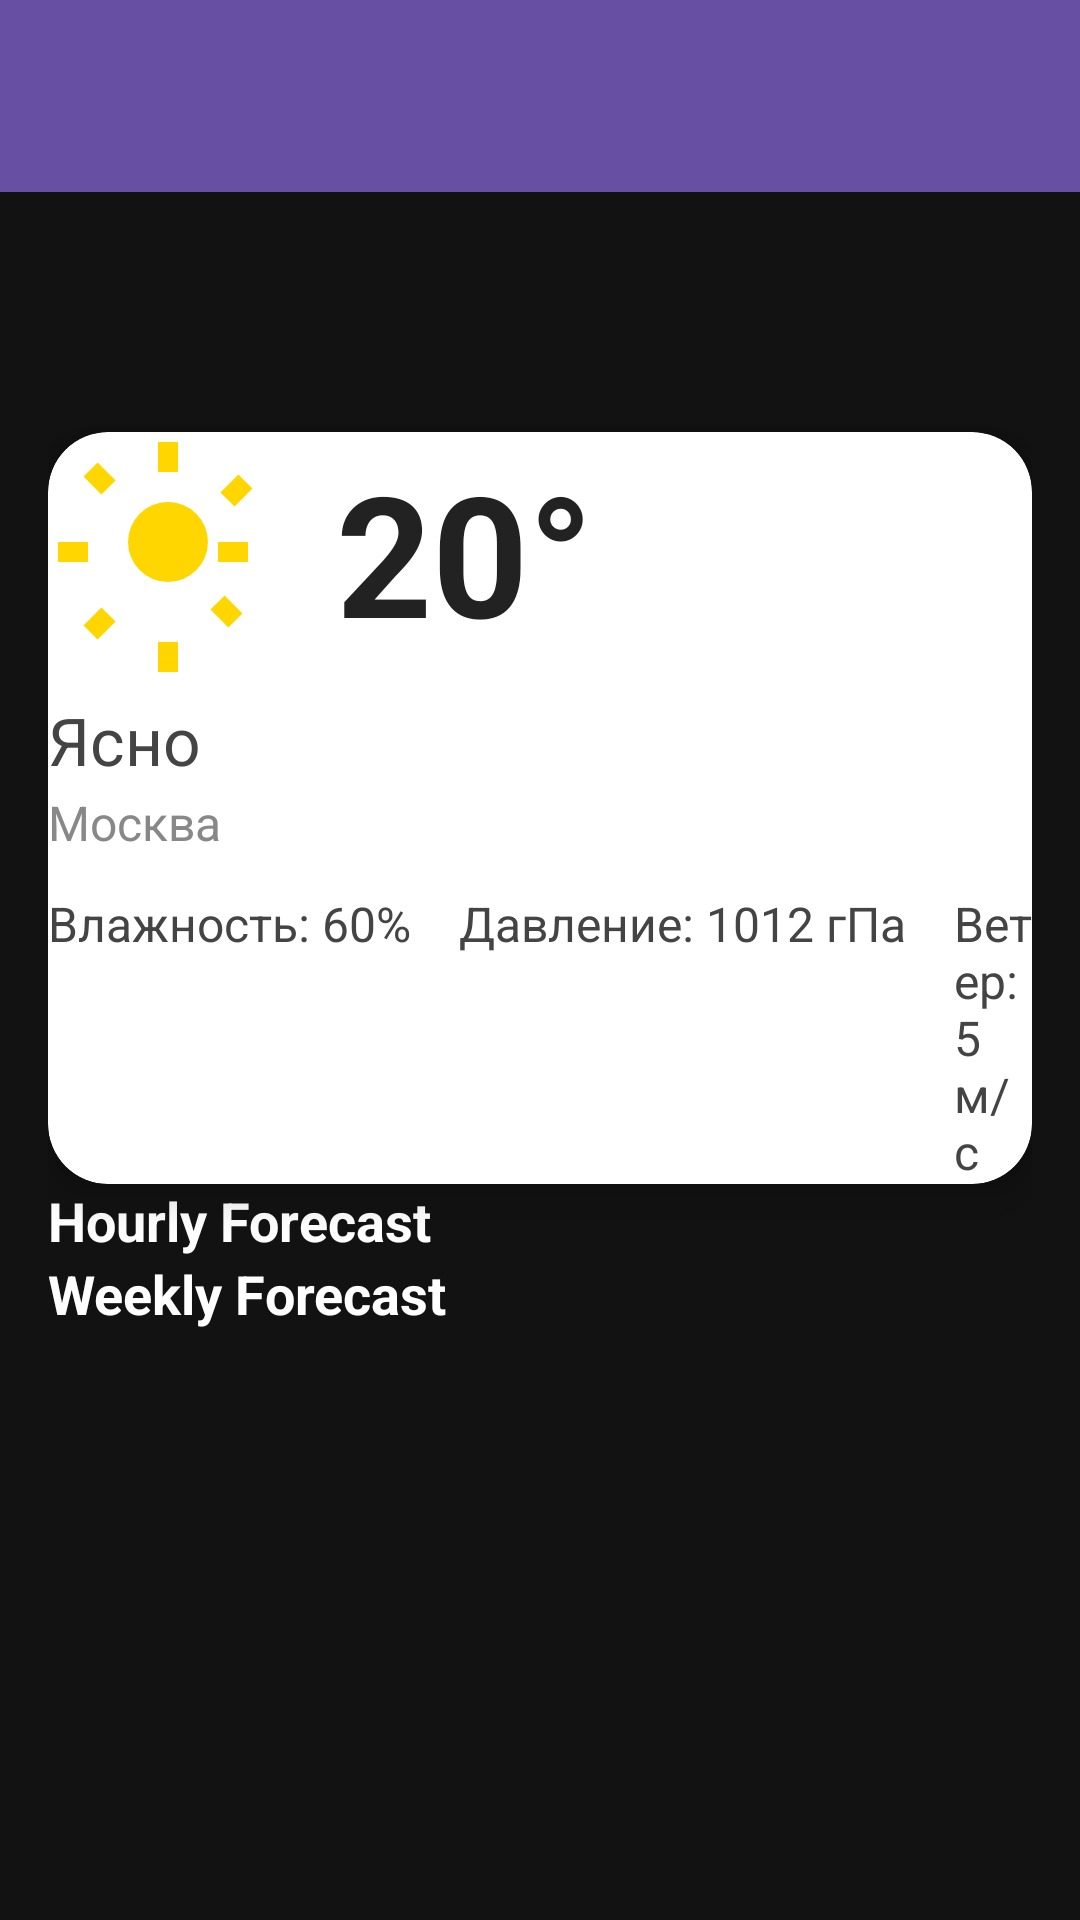

Point at icon controls on the screen. Image size 1080px×1920px, points as point (x, y).
Current weather icon: point (168, 552)
